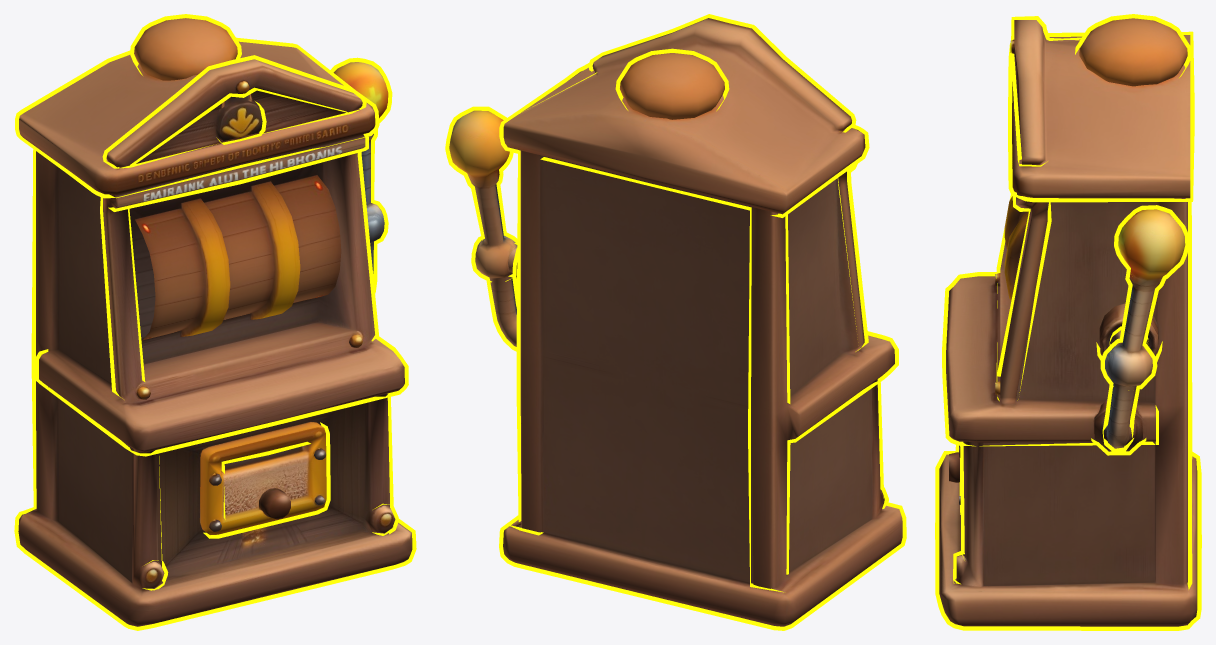
The model's file is slot_machine.glb.
3 views of the same model, side by side, from view 1: azimuth 30°, elevation 25°; view 2: azimuth 150°, elevation 25°; view 3: azimuth 270°, elevation 25° (orthographic). The views are drawn at different scales.
Parts seen in each view (by area): view 1: slot_machine, slot_machine.001; view 2: slot_machine, slot_machine.001; view 3: slot_machine, slot_machine.001.
Boxes of the visible parts, box(x1,y1,x2,y2) form: slot_machine: box(18, 18, 412, 626); slot_machine.001: box(14, 14, 416, 630); slot_machine: box(449, 18, 902, 626); slot_machine.001: box(445, 14, 906, 630); slot_machine: box(939, 18, 1197, 626); slot_machine.001: box(935, 14, 1201, 630).
Size of what is drawn, in the model's own units: 1.11 by 1.52 by 0.6851.
2 materials, 1 textured.
